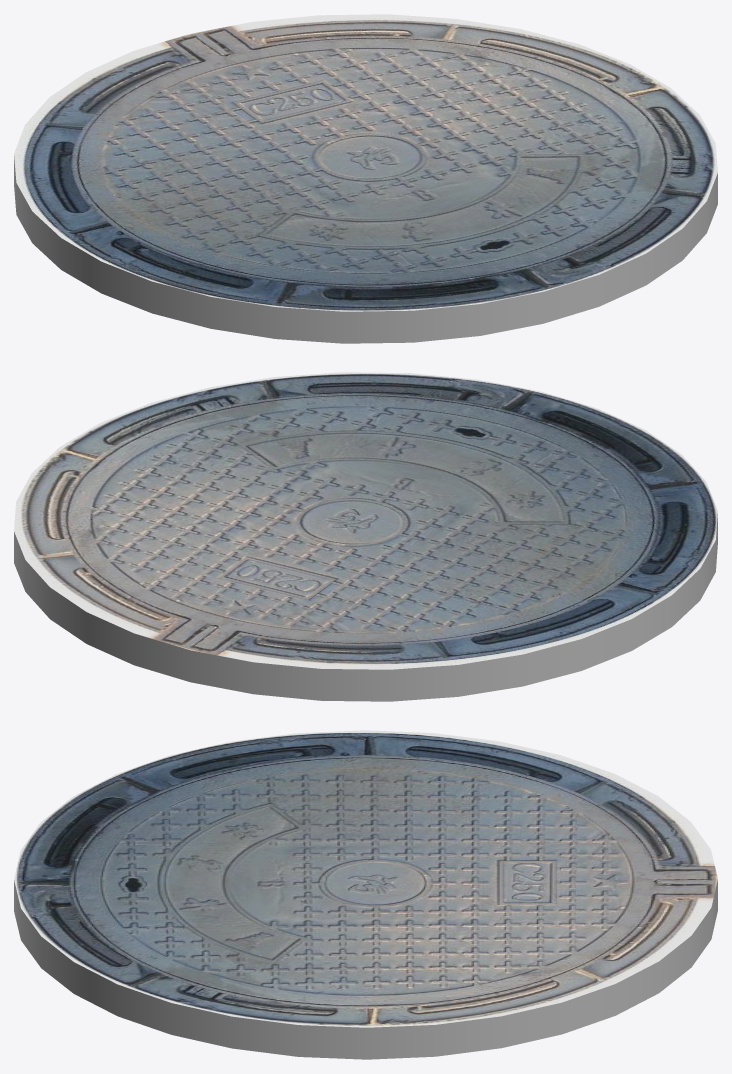
The picture shows the model from 3 angles, top to bottom: view 1: azimuth 30°, elevation 25°; view 2: azimuth 150°, elevation 25°; view 3: azimuth 270°, elevation 25°; orthographic projection.
Visible parts, largest first — view 1: 543000_1; view 2: 543000_1; view 3: 543000_1.
Boxes of the visible parts, left/top/right/bottom form: 543000_1: left=14, top=14, right=717, bottom=343; 543000_1: left=14, top=372, right=717, bottom=701; 543000_1: left=14, top=730, right=717, bottom=1059.
Size of the model in its own units: 1 by 0.05 by 1.
Materials: 2 (1 with a texture image).
